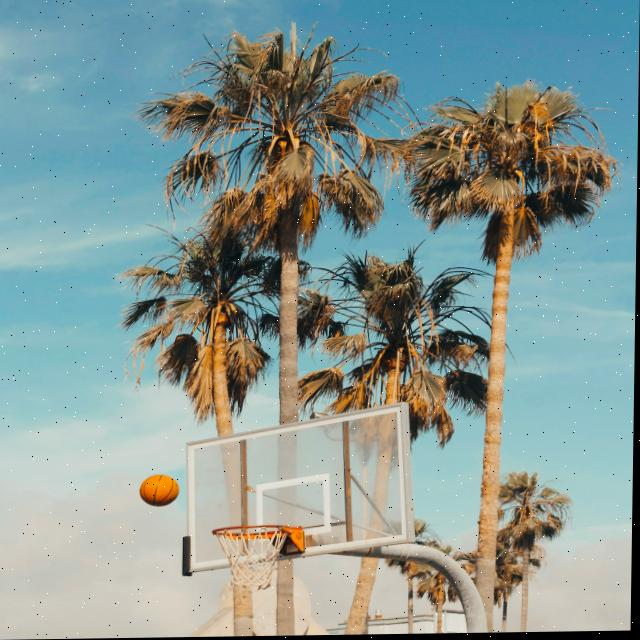Basketball: (139, 474, 179, 507)
